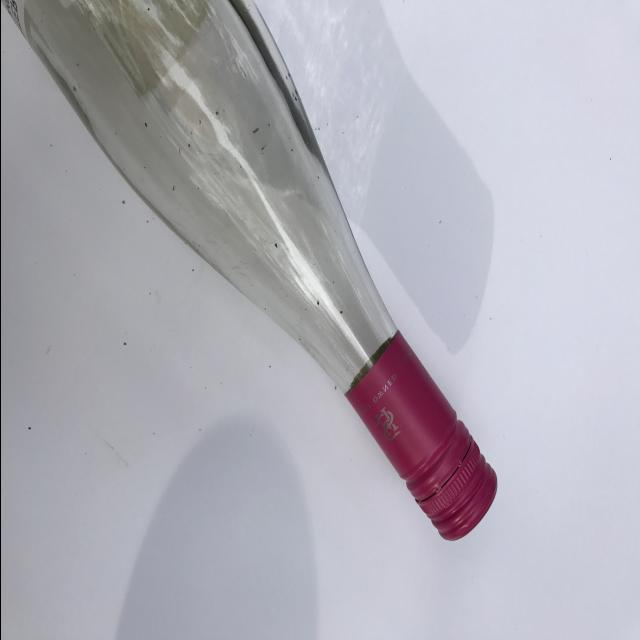glass: (6, 1, 503, 540)
